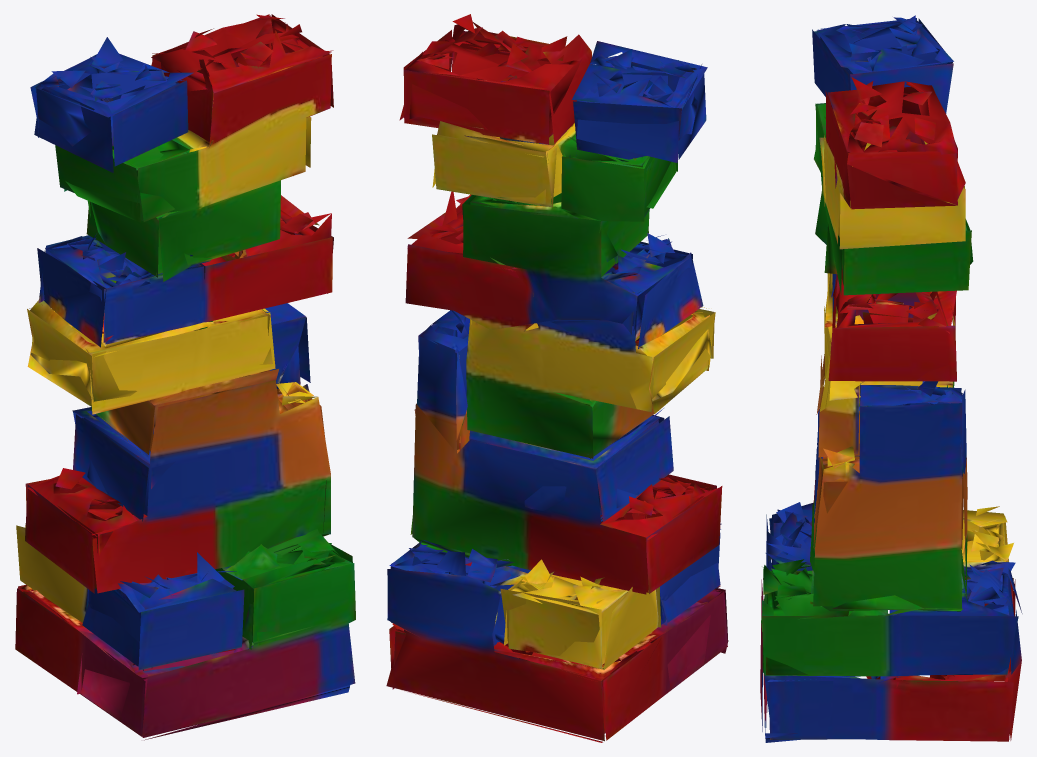
Rendered from kinder_bausteinturm.glb.
3 renders of one model, left to right at view 1: azimuth 30°, elevation 25°; view 2: azimuth 150°, elevation 25°; view 3: azimuth 270°, elevation 25°, orthographic.
Visible parts, largest first — view 1: Prop; view 2: Prop; view 3: Prop.
Boxes of the visible parts, x1,y1,x2,y2 form: Prop: [15, 14, 355, 740]; Prop: [386, 14, 728, 742]; Prop: [760, 15, 1022, 742].
Bounding box in the file's own units: 0.4519 × 1.03 × 0.3819.
1 material, 1 textured.
